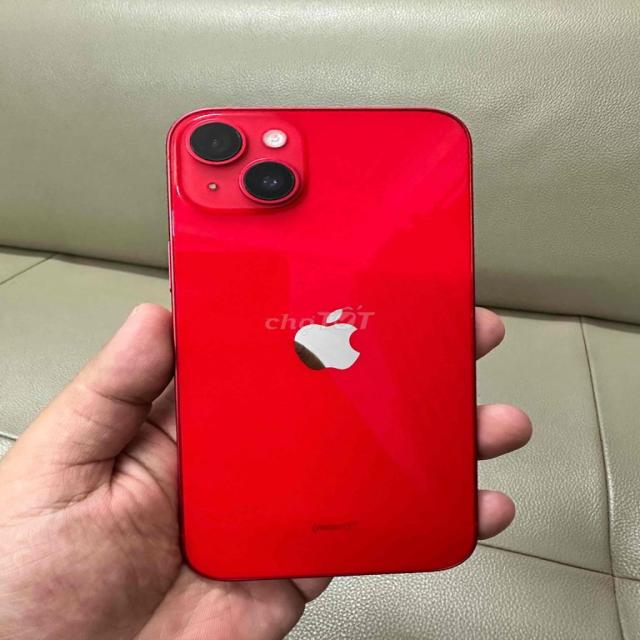gen_14: (160, 94, 526, 586)
